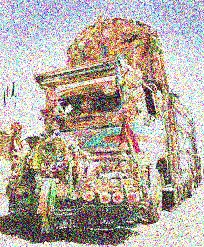truck: (35, 15, 199, 236)
